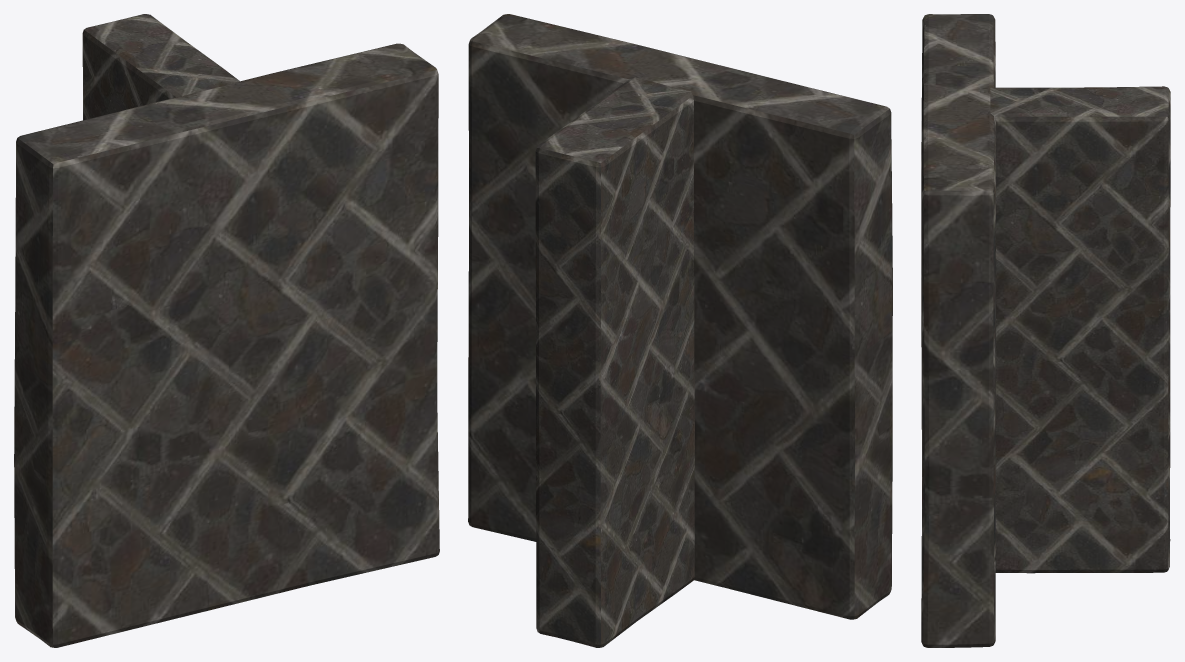
File: wall_t.glb
The picture shows the model from 3 angles, left to right: view 1: azimuth 30°, elevation 25°; view 2: azimuth 150°, elevation 25°; view 3: azimuth 270°, elevation 25°; orthographic projection. The views are drawn at different scales.
Visible parts, largest first — view 1: wall_t; view 2: wall_t; view 3: wall_t.
Boxes of the visible parts, x1=… form: wall_t: x1=14, y1=14, x2=439, y2=647; wall_t: x1=468, y1=14, x2=892, y2=647; wall_t: x1=921, y1=14, x2=1170, y2=647.
Size of the model in its own units: 2.01 by 2.41 by 1.18.
1 material, 1 textured.
